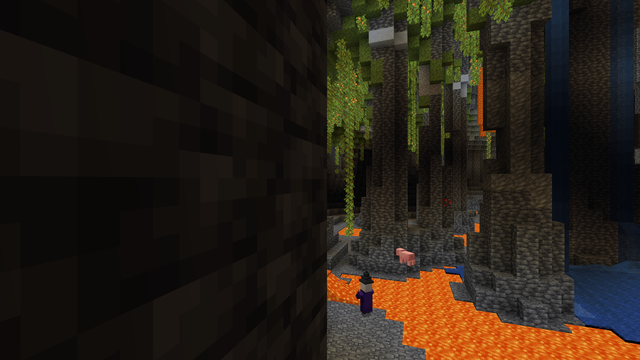cochons: (400, 250, 412, 265)
sorcieres: (360, 278, 372, 318)
